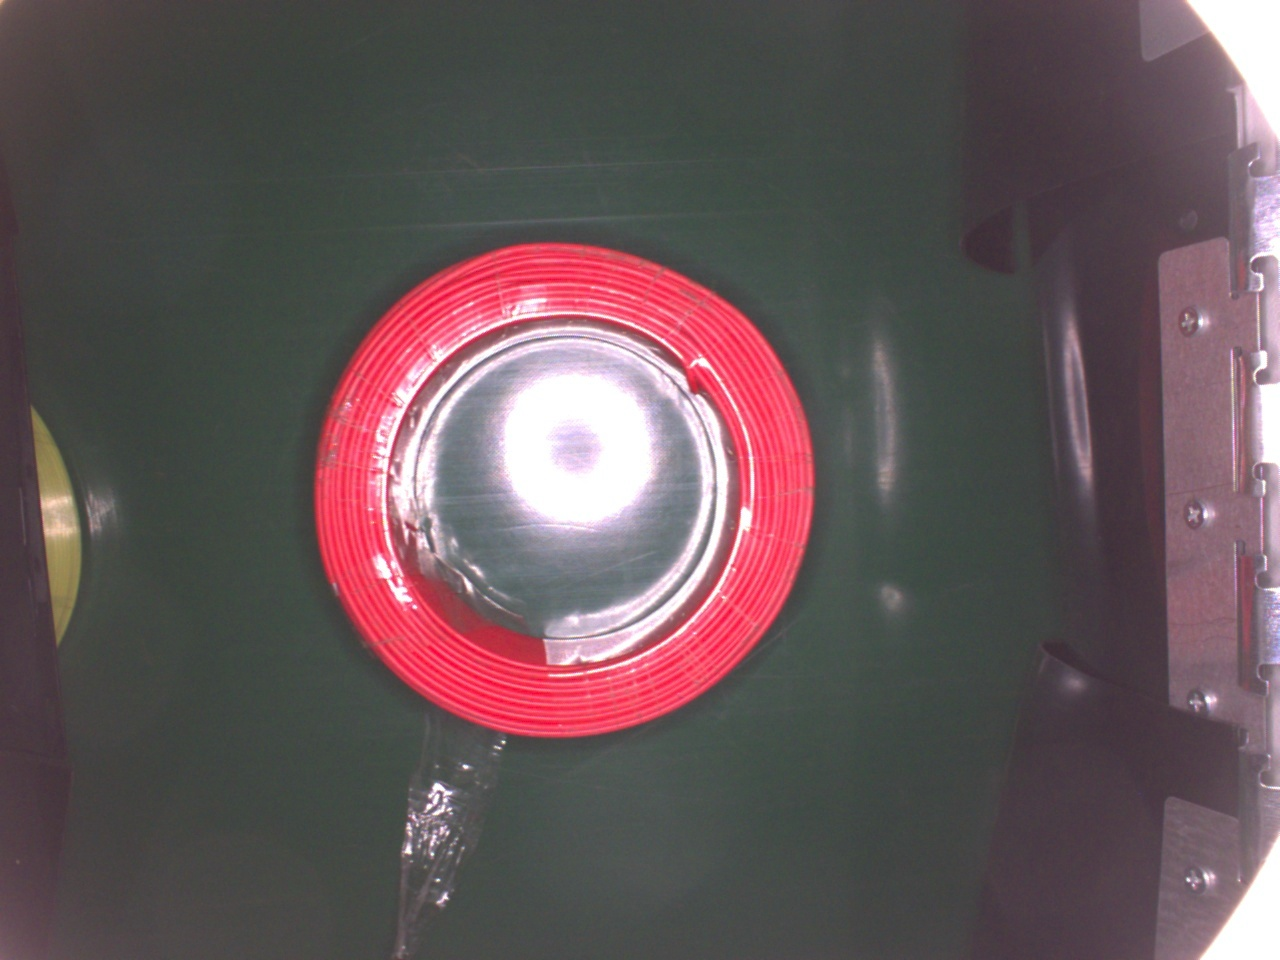red: (310, 240, 814, 738)
